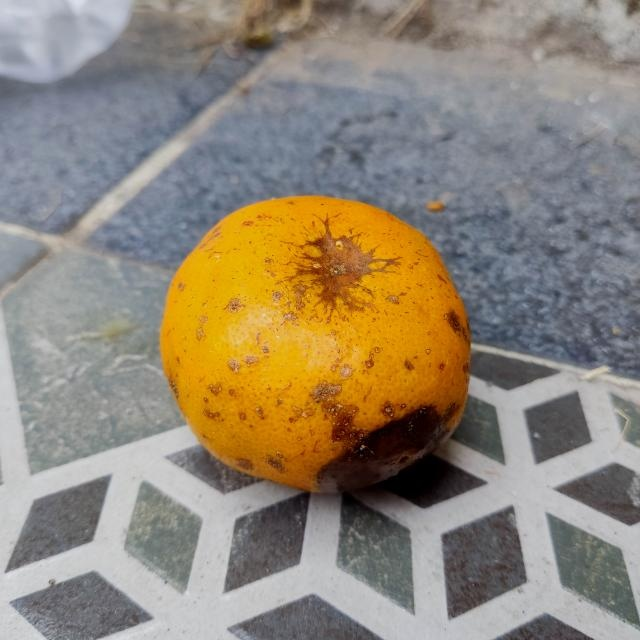agrume: (157, 191, 469, 493)
